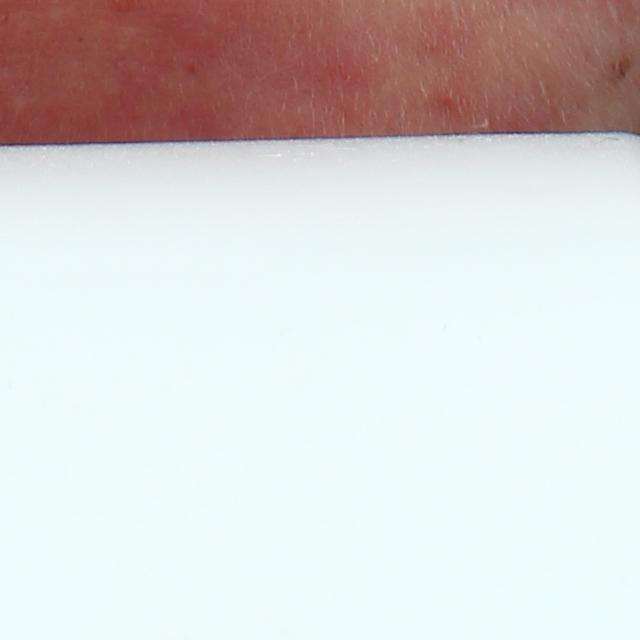nevus: (612, 58, 636, 80)
